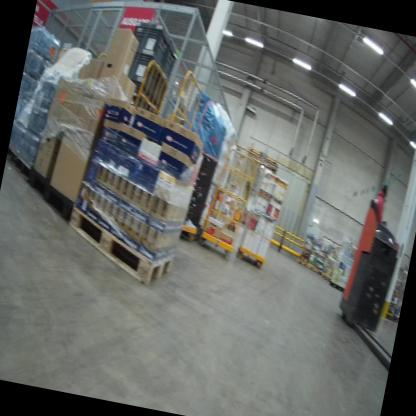pallet: (56, 201, 182, 290)
pallet_truck: (328, 170, 416, 377)
